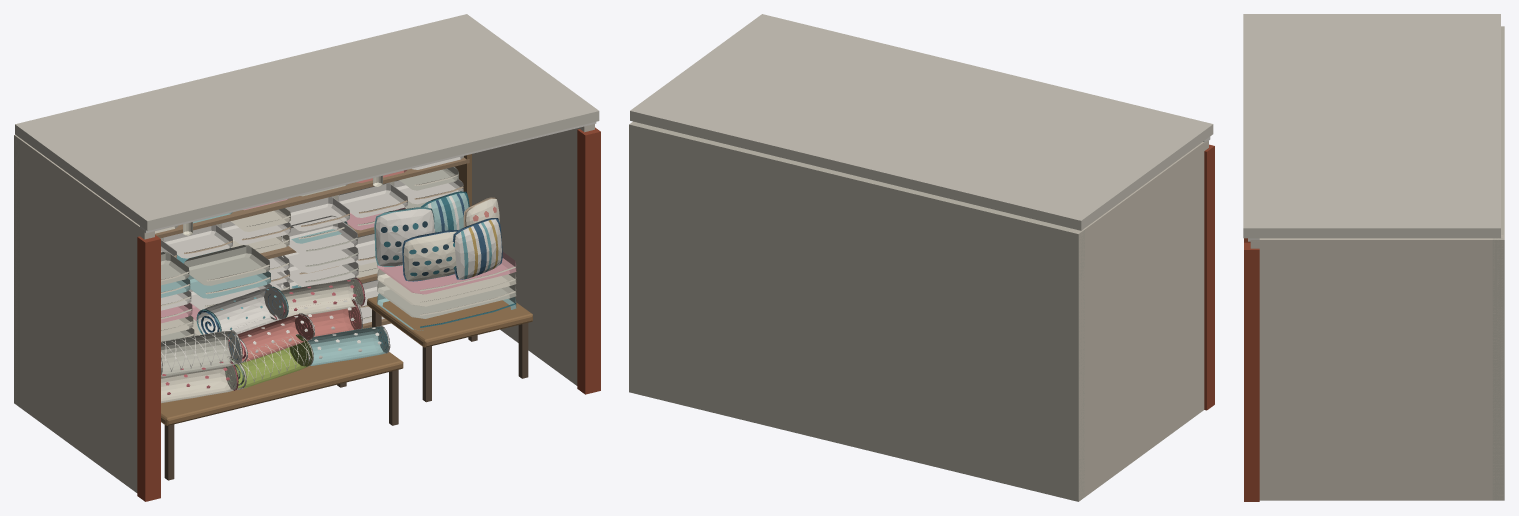
File: quilt-shop.glb
3 views of the same model, side by side, from view 1: azimuth 30°, elevation 25°; view 2: azimuth 150°, elevation 25°; view 3: azimuth 270°, elevation 25° (orthographic). The views are drawn at different scales.
Parts seen in each view (by area): view 1: quilt-shop; view 2: quilt-shop; view 3: quilt-shop.
Part boxes in pixels (x1=…): quilt-shop: x1=14, y1=14, x2=600, y2=501; quilt-shop: x1=629, y1=14, x2=1214, y2=501; quilt-shop: x1=1243, y1=14, x2=1504, y2=501.
Bounding box in the file's own units: 5.26 × 3.1 × 2.68.
